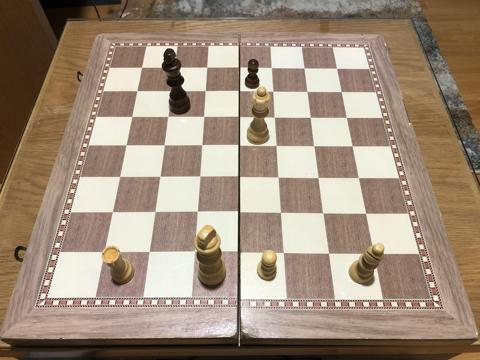xcorner: (331, 64, 343, 76), (266, 63, 278, 75), (234, 63, 246, 75), (201, 62, 213, 74), (168, 62, 180, 74), (135, 62, 147, 74), (336, 87, 348, 99), (302, 87, 314, 99), (268, 87, 280, 99), (234, 86, 246, 98), (199, 86, 211, 98), (165, 86, 177, 98), (131, 85, 143, 97), (341, 113, 353, 125), (305, 113, 317, 125), (270, 112, 282, 124), (234, 112, 246, 124), (198, 112, 210, 124), (162, 111, 174, 123), (126, 111, 138, 123), (347, 141, 359, 153), (309, 141, 321, 153), (272, 141, 284, 153), (234, 140, 246, 152), (196, 140, 208, 152), (158, 140, 170, 152), (120, 140, 132, 152), (353, 173, 365, 185), (313, 173, 325, 185), (274, 172, 286, 184), (234, 172, 246, 184), (194, 172, 206, 184), (154, 172, 166, 184), (114, 171, 126, 183), (360, 208, 372, 220), (318, 208, 330, 220), (276, 208, 288, 220), (234, 208, 246, 220), (192, 207, 204, 219), (149, 207, 161, 219), (107, 207, 119, 219), (368, 248, 380, 260), (324, 248, 336, 260), (279, 248, 291, 260), (234, 247, 246, 259), (189, 247, 201, 259), (144, 247, 156, 259), (99, 247, 111, 259), (299, 64, 311, 75)
